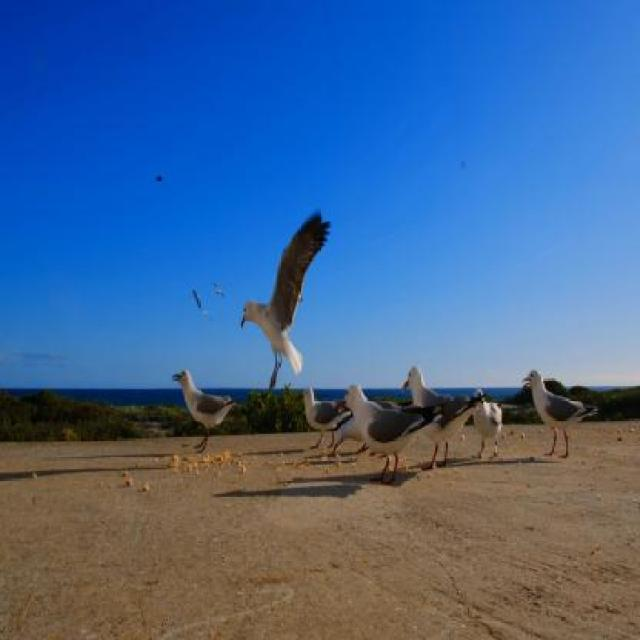bird: (237, 208, 332, 407), (190, 285, 202, 317), (210, 278, 224, 302), (152, 169, 165, 186)
